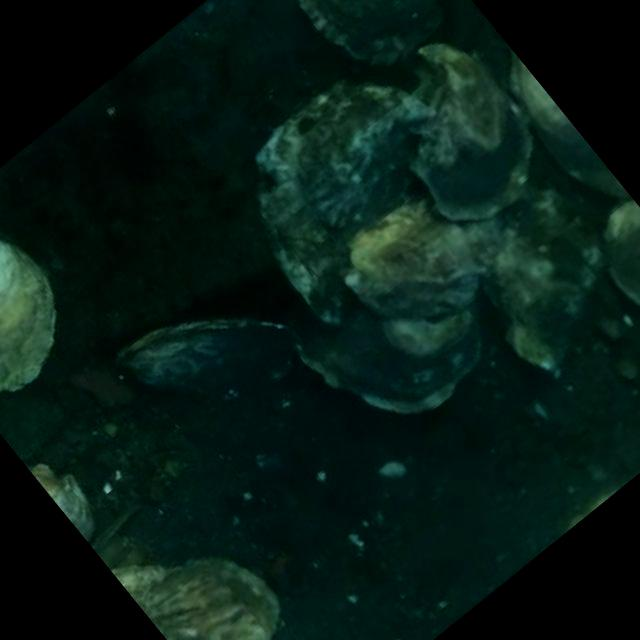Oyster-Closed: (255, 81, 433, 321), (460, 142, 604, 366), (291, 287, 482, 416), (509, 49, 633, 201), (346, 202, 481, 318), (110, 556, 281, 640), (116, 316, 297, 395), (301, 0, 448, 67), (0, 238, 56, 392), (26, 465, 94, 542), (603, 196, 640, 301)
Oyster-Open: (409, 44, 533, 220)
